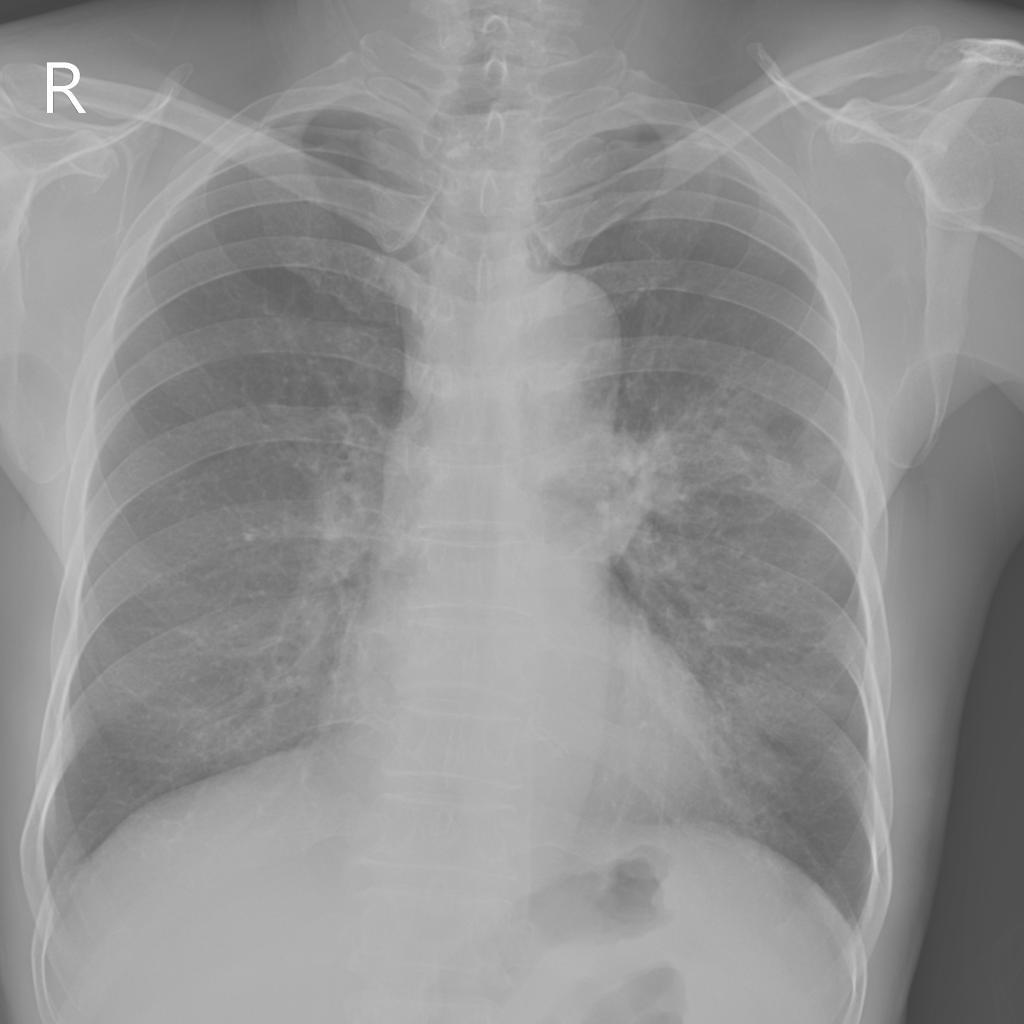Nodule: (802, 439, 843, 477)
